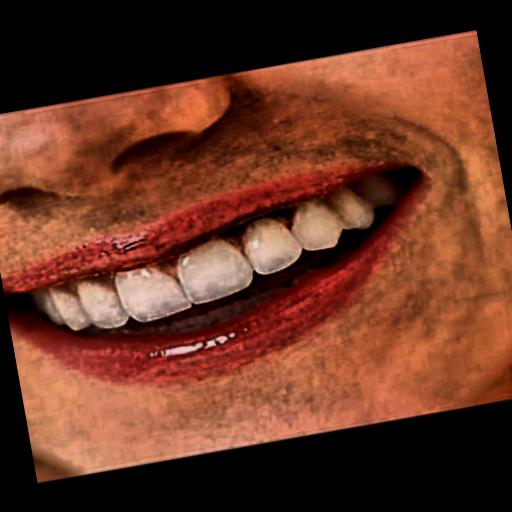Healthy: (42, 152, 432, 370)
